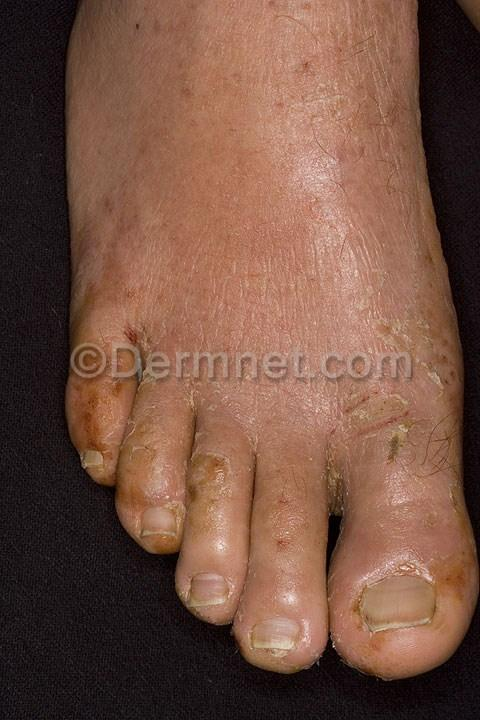Eczema: (350, 267, 462, 393), (345, 393, 435, 500), (335, 64, 425, 168), (165, 418, 252, 510), (74, 189, 154, 285), (50, 359, 107, 439), (425, 523, 479, 601), (253, 481, 309, 552)
